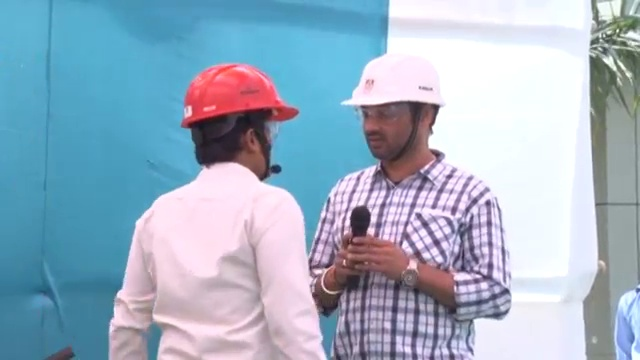helmet: (181, 61, 300, 126), (341, 51, 447, 109)
helmet_on: (180, 61, 301, 188), (341, 51, 452, 177)
person: (108, 59, 327, 360), (310, 51, 515, 359)
